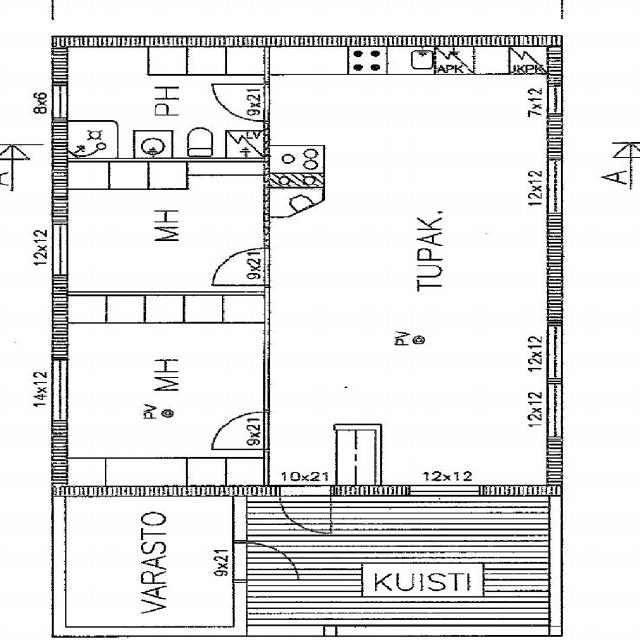door: (278, 484, 332, 533), (232, 541, 298, 580), (212, 84, 270, 121), (212, 248, 269, 285), (212, 413, 270, 449)
